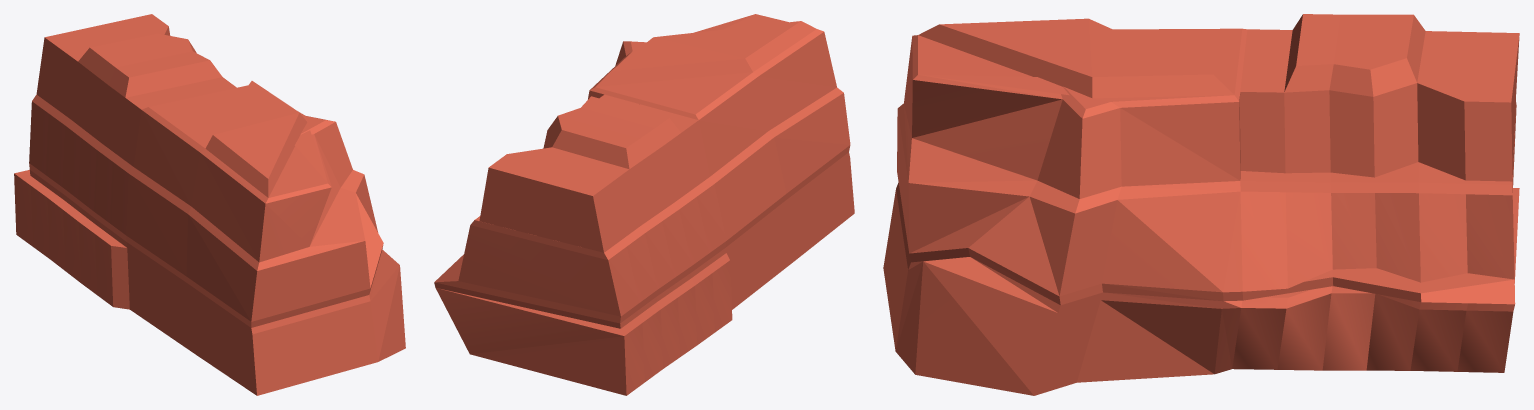
File: Roca6.fbx
The picture shows the model from 3 angles, left to right: view 1: azimuth 30°, elevation 25°; view 2: azimuth 150°, elevation 25°; view 3: azimuth 270°, elevation 25°; orthographic projection. The views are drawn at different scales.
Parts seen in each view (by area): view 1: Cube.010; view 2: Cube.010; view 3: Cube.010.
Part boxes in pixels (x1,y1,x2,y2): Cube.010: (14,14,405,395); Cube.010: (434,14,854,395); Cube.010: (883,14,1519,395).
Bounding box in the file's own units: 2213 × 2165 × 4470.
